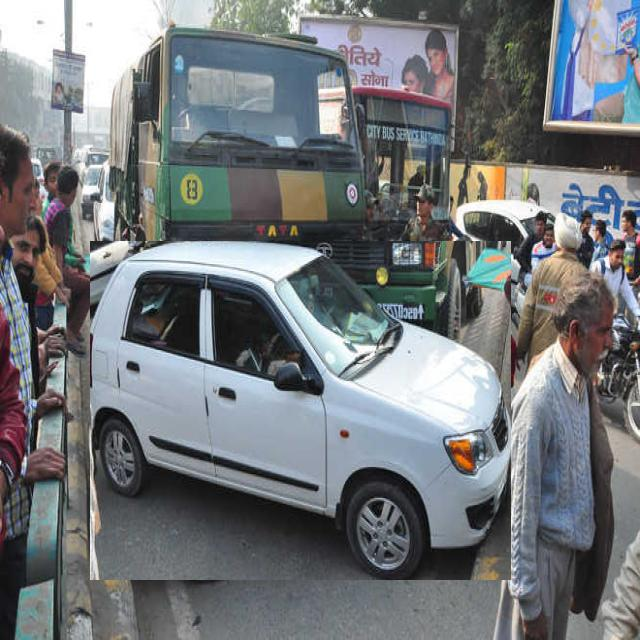car: (90, 241, 511, 580)
truck: (110, 27, 364, 335)
